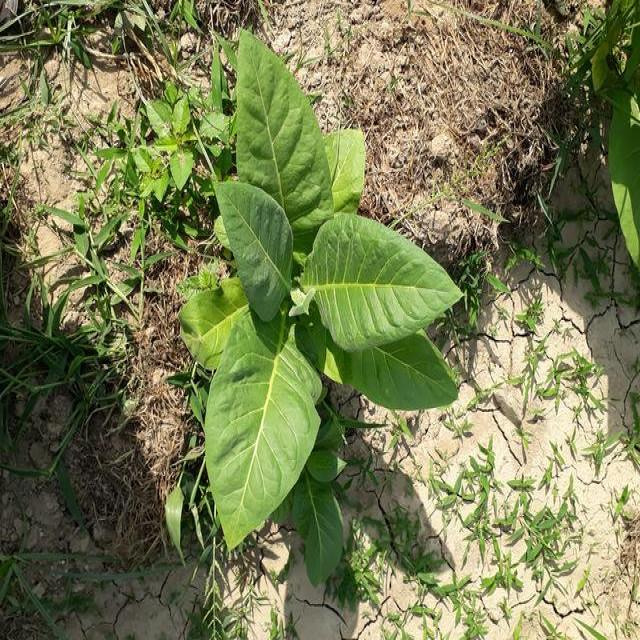crop: (184, 40, 463, 578)
